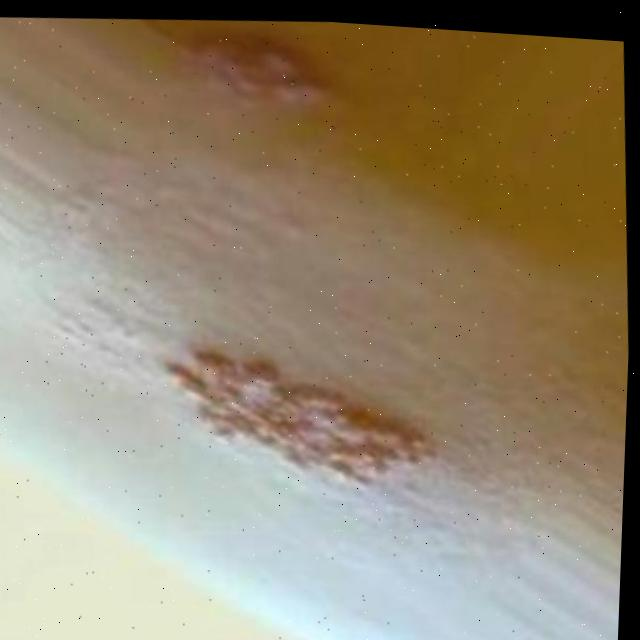Shingles: (165, 337, 425, 499), (201, 19, 325, 115)
